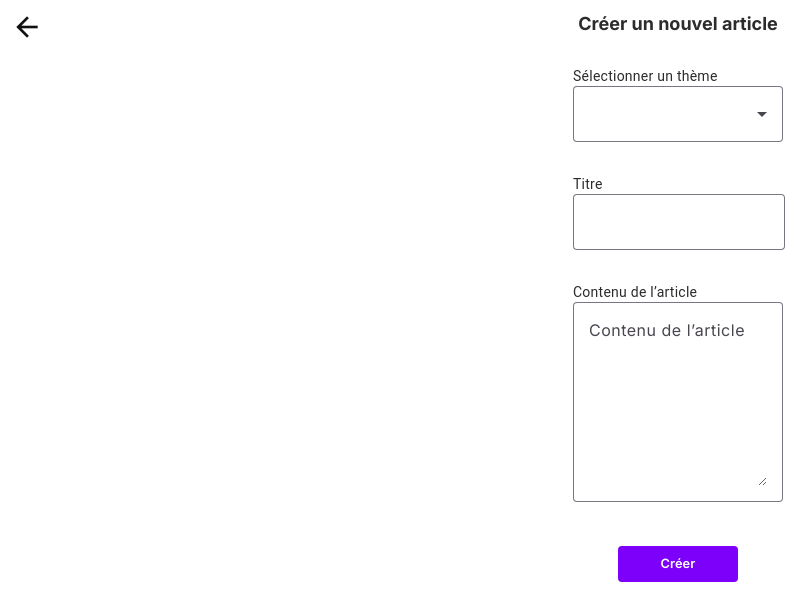
Test case: ArticleFormComponent › initialization › should display the loaded topics
Click the dropdown at x=762, y=114, box x1=750 y1=102 x2=774 y2=126
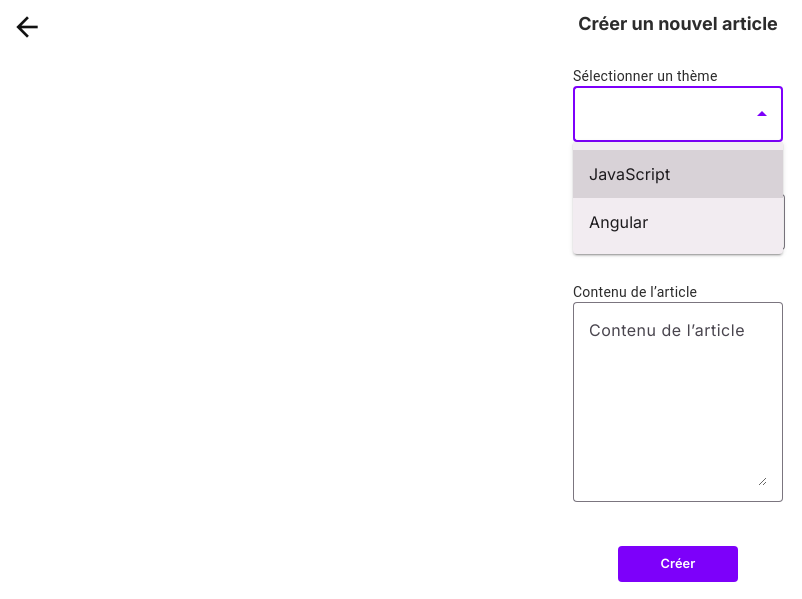
Expected: the text "JavaScript" is shown, x1=589 y1=164 x2=670 y2=184
Expected: the text "Angular" is shown, x1=589 y1=212 x2=648 y2=232
